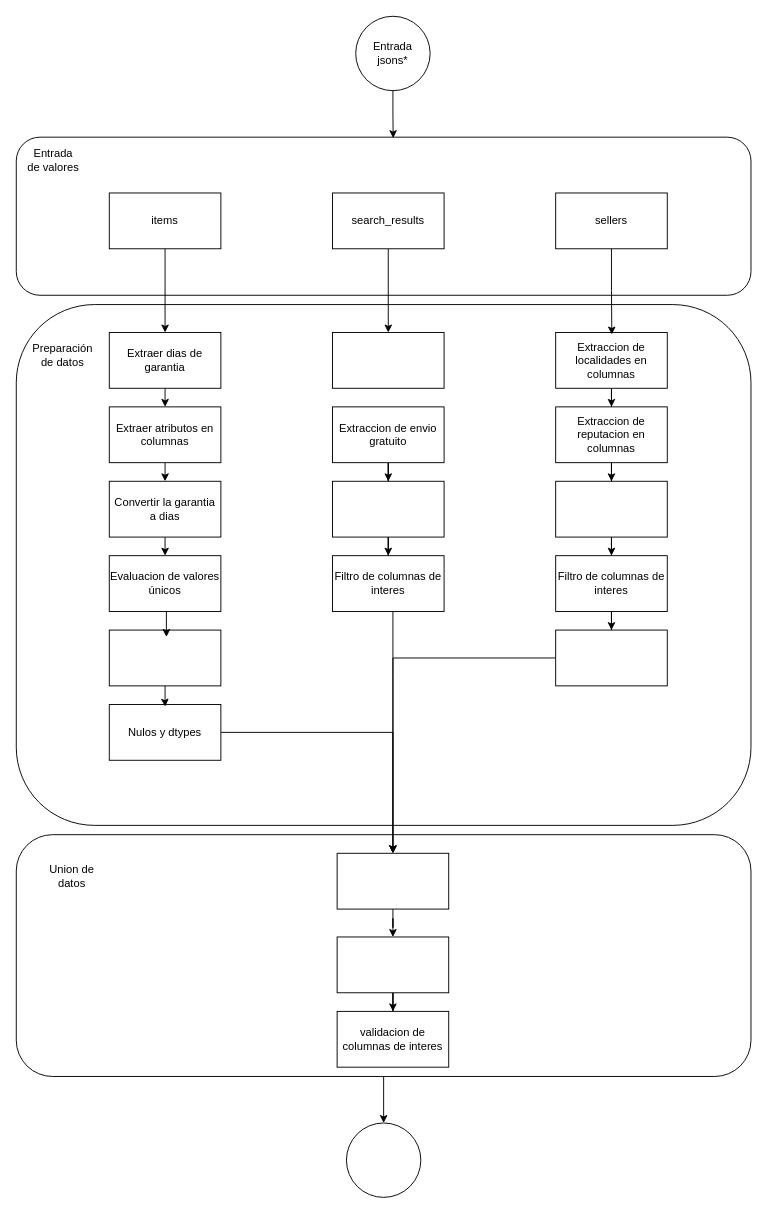
The diagram is 767 pixels wide and 1214 high, and some of its shapes have lost their labels. The shapes that lost their labels are listed below. From the top down, each one's box as (x1, y1, x2, y2) in pixels, then its label:
(332, 332, 444, 388): Extraccion de atributos en columnas
(332, 480, 444, 537): Validacion de nulos
(555, 480, 667, 537): Extraccion del estado del vendedor
(108, 629, 221, 686): Filtros de columnas de interes
(555, 629, 667, 686): Nuloi y dtyes
(336, 852, 449, 909): merge en df_merge
(336, 936, 449, 993): filtros
(345, 1122, 421, 1197): Salida de datos ++Reporte++
